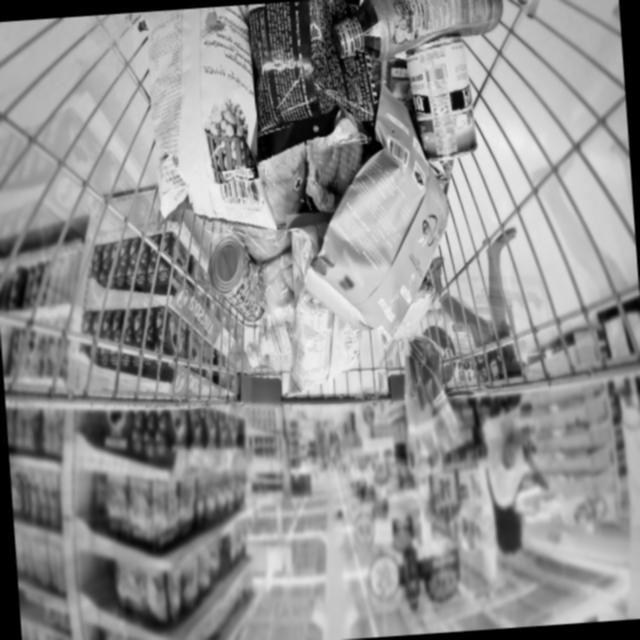banh mi: (381, 264, 464, 440)
dau: (242, 312, 309, 377)
